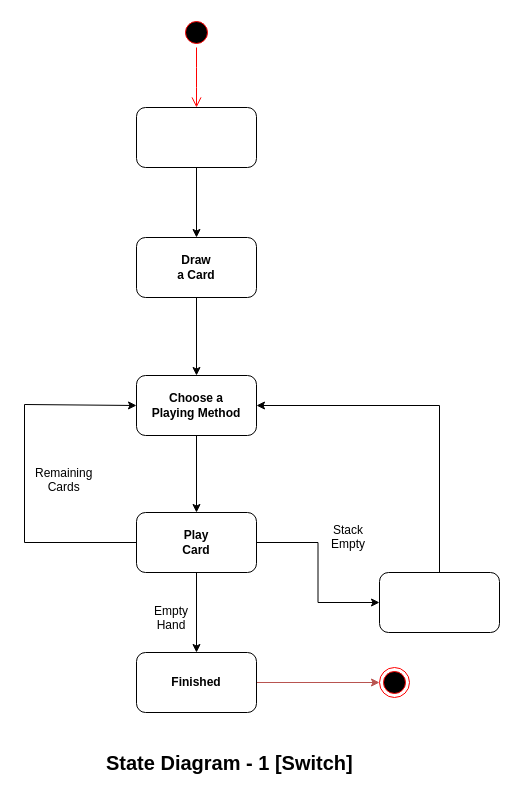
The diagram is 517 pixels wide and 793 high, and some of its shapes have lost their labels. The shapes that lost their labels are listed below. From the top down, each one's centre as x and y in pixels, then its label:
At (x=196, y=137): "Deal".
At (x=439, y=602): "Use Discard Pile as Stack".
